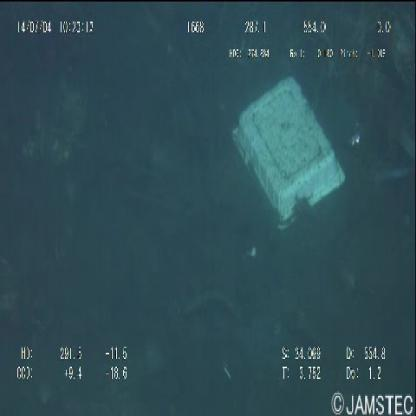Rác: (236, 79, 347, 224)
